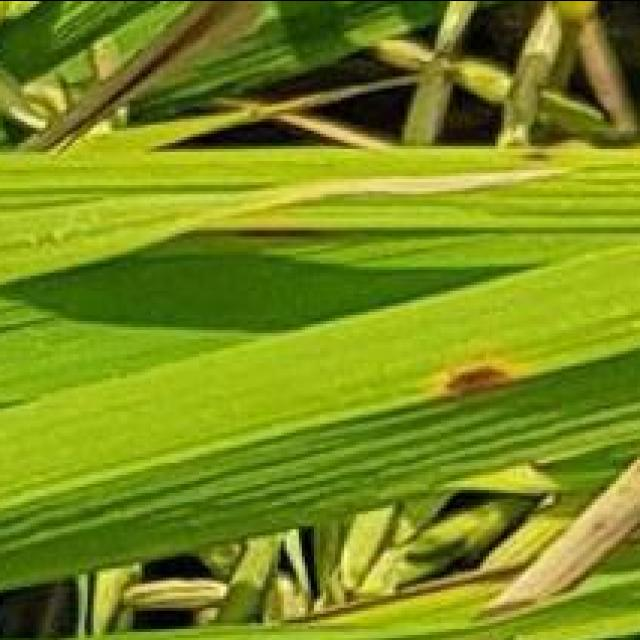Brown_Spot: (438, 359, 540, 411)
